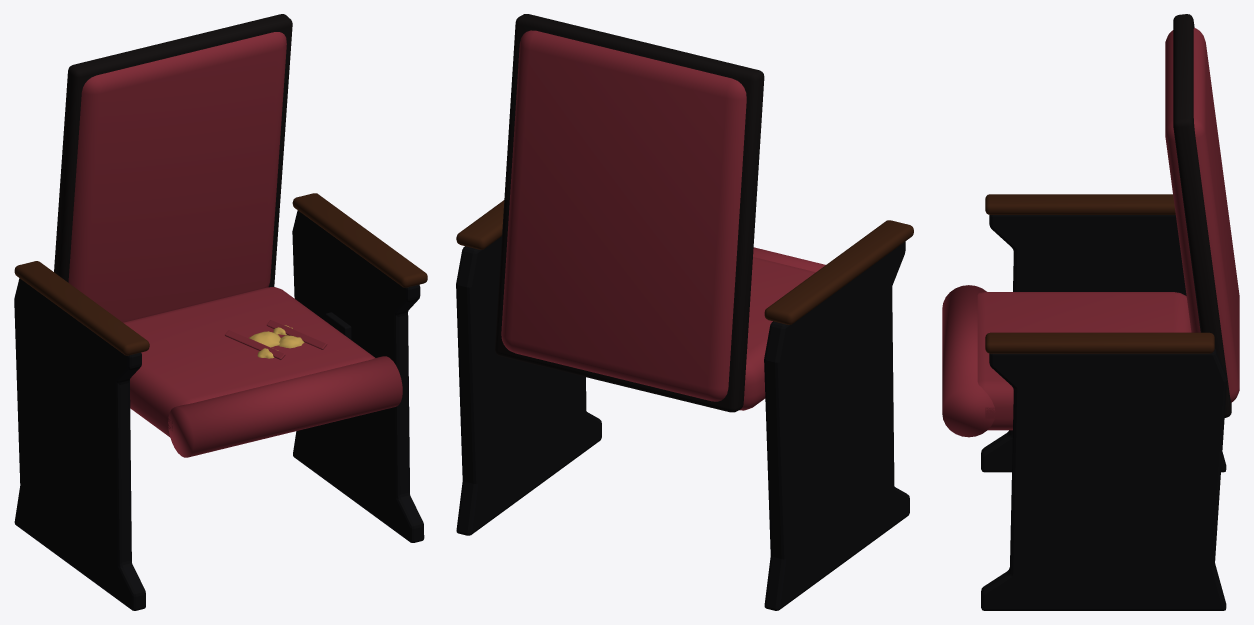
The model's file is cinema-seat-torn.glb.
The picture shows the model from 3 angles, left to right: view 1: azimuth 30°, elevation 25°; view 2: azimuth 150°, elevation 25°; view 3: azimuth 270°, elevation 25°; orthographic projection. The views are drawn at different scales.
Parts seen in each view (by area): view 1: Würfel.007, Standard, Standard.001, Würfel.004, Zylinder, Würfel.008, Würfel.002, Würfel; view 2: Würfel.007, Standard, Standard.001, Würfel.008, Würfel, Würfel.004, Würfel.002, Zylinder; view 3: Standard.001, Standard, Würfel.004, Würfel.007, Würfel.008, Zylinder, Würfel.002, Würfel.
Part boxes in pixels (box(x1,y1,x2,y2)): Würfel.007: box(68, 32, 286, 322); Standard: box(14, 278, 145, 610); Standard.001: box(292, 210, 424, 542); Würfel.004: box(123, 287, 374, 437); Zylinder: box(168, 356, 402, 457); Würfel.008: box(54, 14, 292, 287); Würfel.002: box(292, 193, 427, 287); Würfel: box(14, 261, 149, 355); Würfel.007: box(501, 30, 746, 401); Standard: box(764, 241, 909, 610); Standard.001: box(456, 236, 601, 535); Würfel.008: box(495, 14, 764, 412); Würfel: box(764, 220, 913, 324); Würfel.004: box(739, 257, 815, 410); Würfel.002: box(456, 200, 504, 249); Zylinder: box(753, 247, 825, 271); Standard.001: box(981, 348, 1226, 610); Standard: box(981, 215, 1226, 472); Würfel.004: box(977, 292, 1191, 430); Würfel.007: box(1165, 28, 1239, 402); Würfel.008: box(1173, 14, 1231, 417); Zylinder: box(942, 285, 995, 437); Würfel.002: box(985, 332, 1214, 353); Würfel: box(985, 194, 1175, 214).
Size of the model in its own units: 0.875 by 1.27 by 0.7259.
